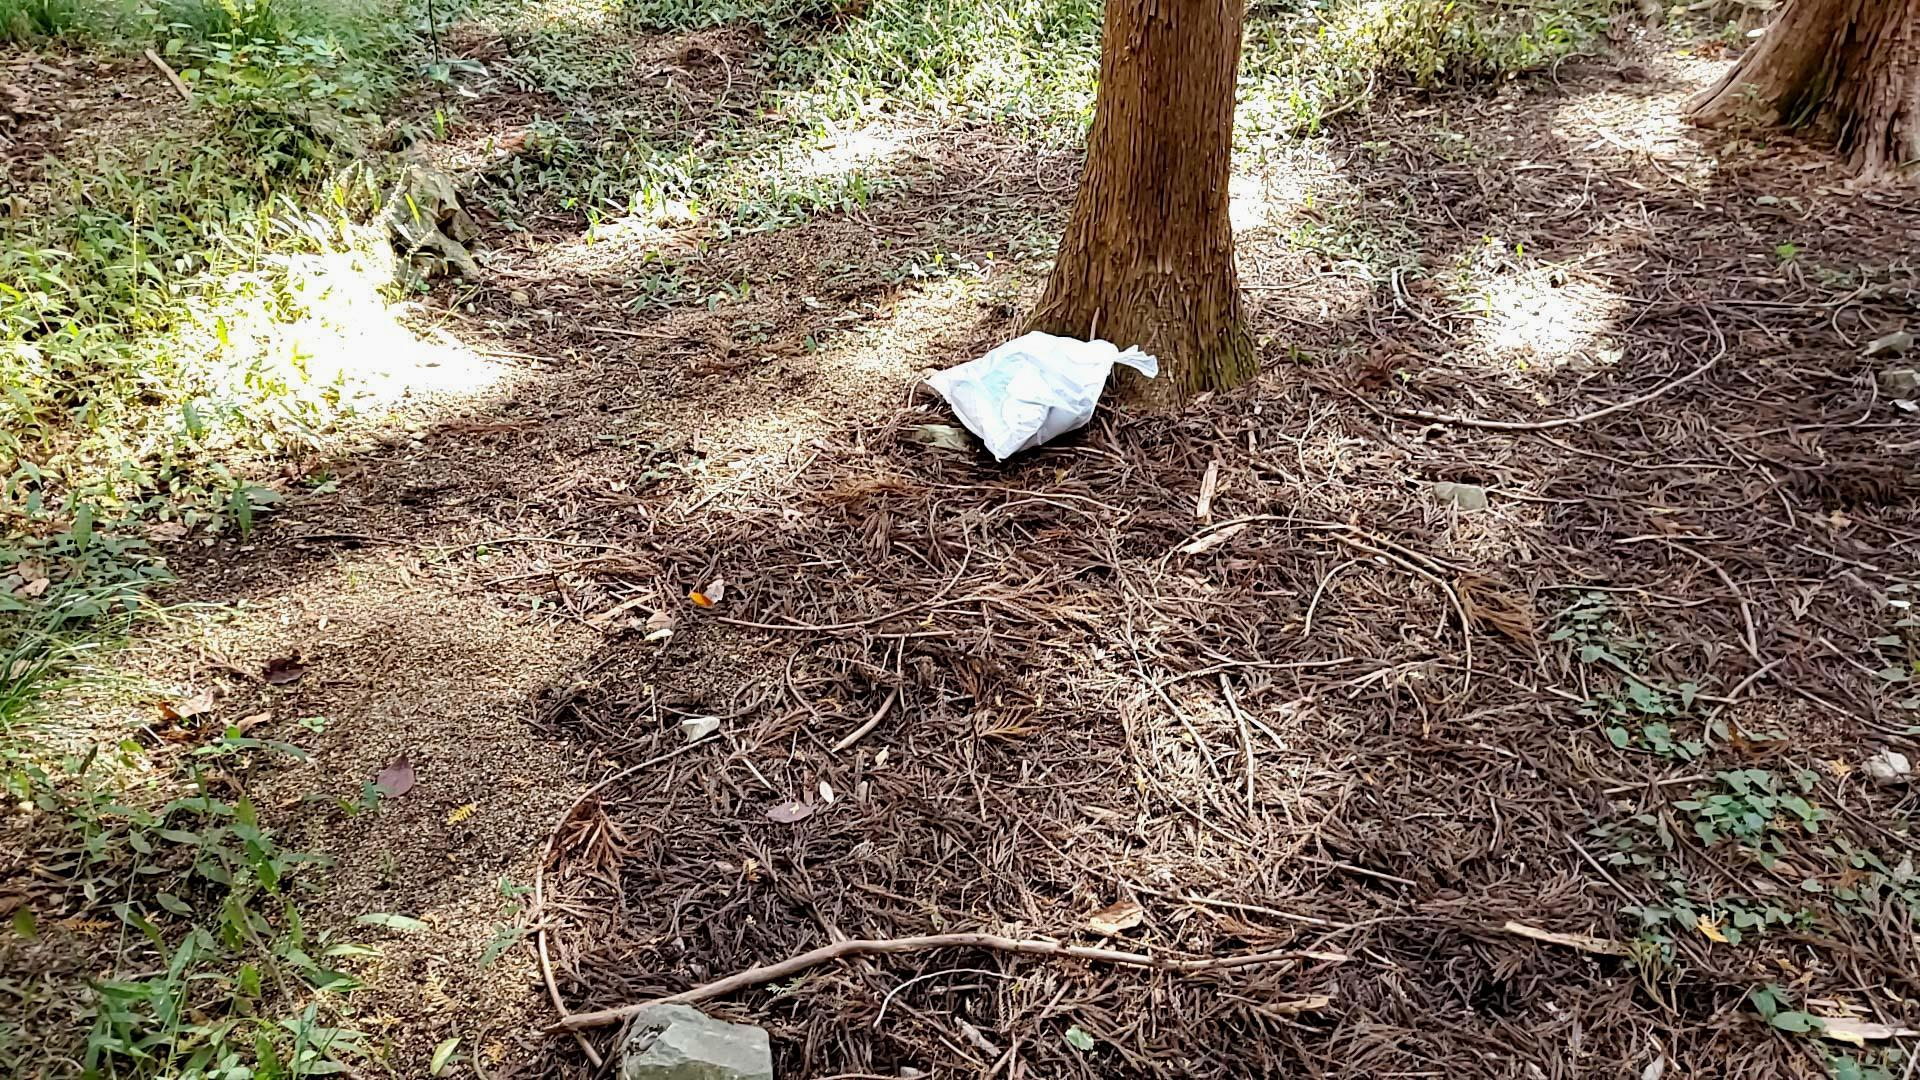white_bag: (907, 328, 1162, 473)
